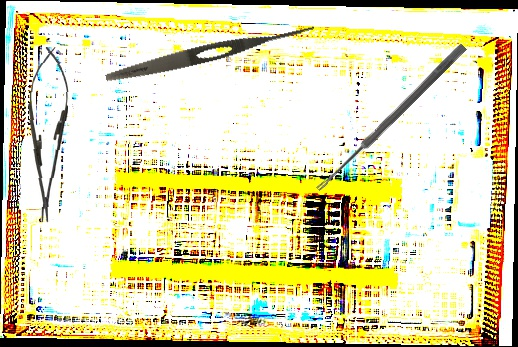Dressing Forceps: (103, 17, 317, 88)
Needle Holder: (23, 46, 71, 224)
Surgical Spoon: (315, 42, 467, 194)
